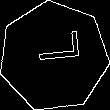L_W: (27, 38, 81, 75)
